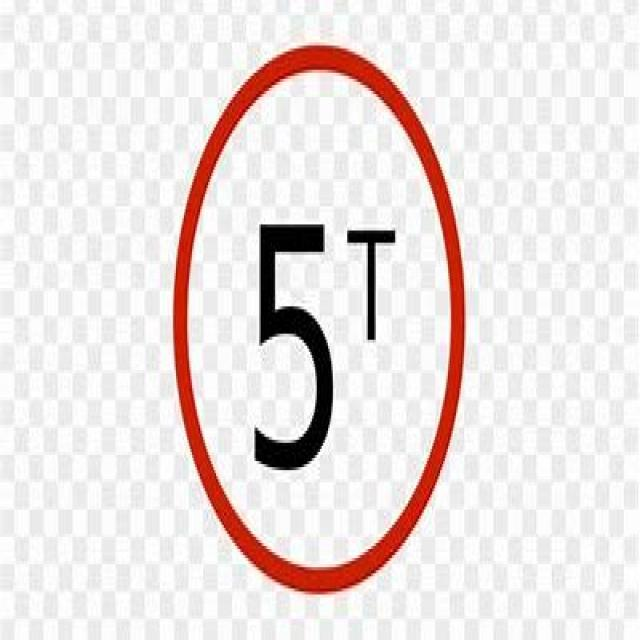LOAD_LIMIT: (173, 42, 464, 594)
